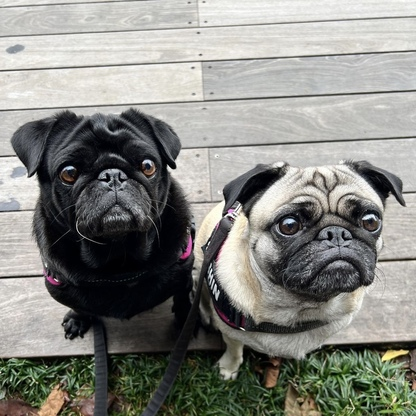Pug: (195, 156, 410, 390), (7, 98, 198, 345)
